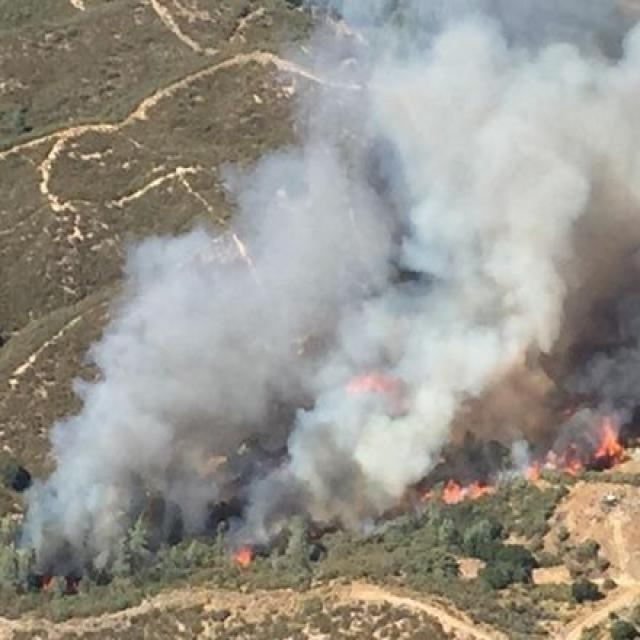Smoke: (38, 0, 640, 591)
